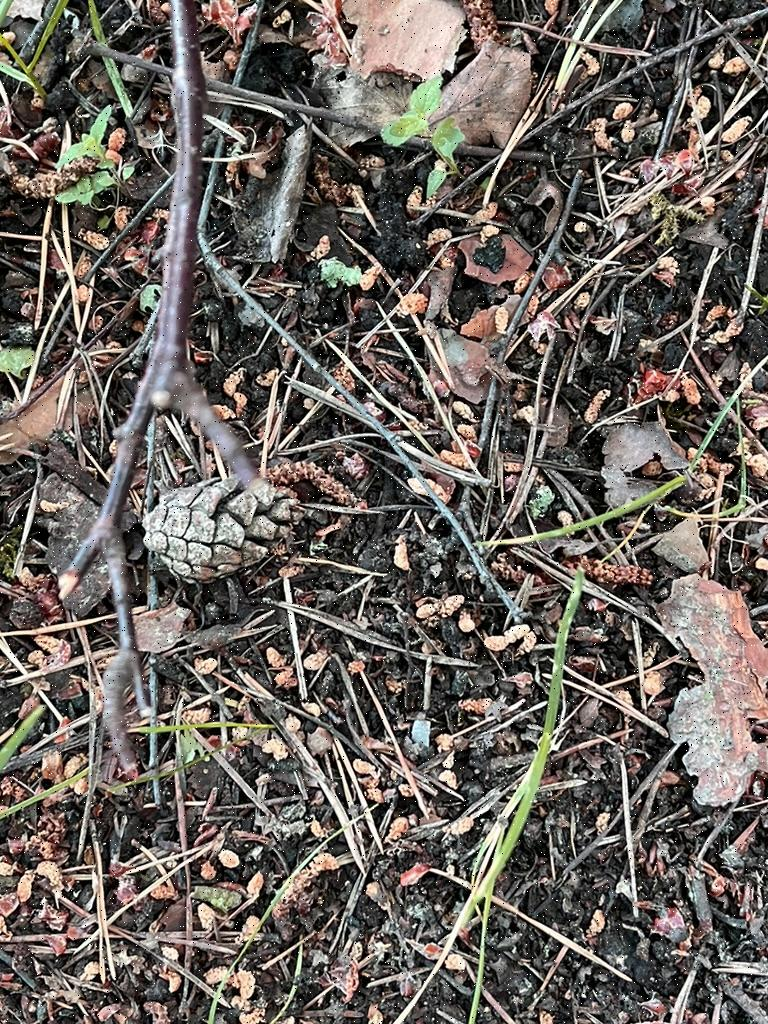pine: (146, 473, 304, 590)
